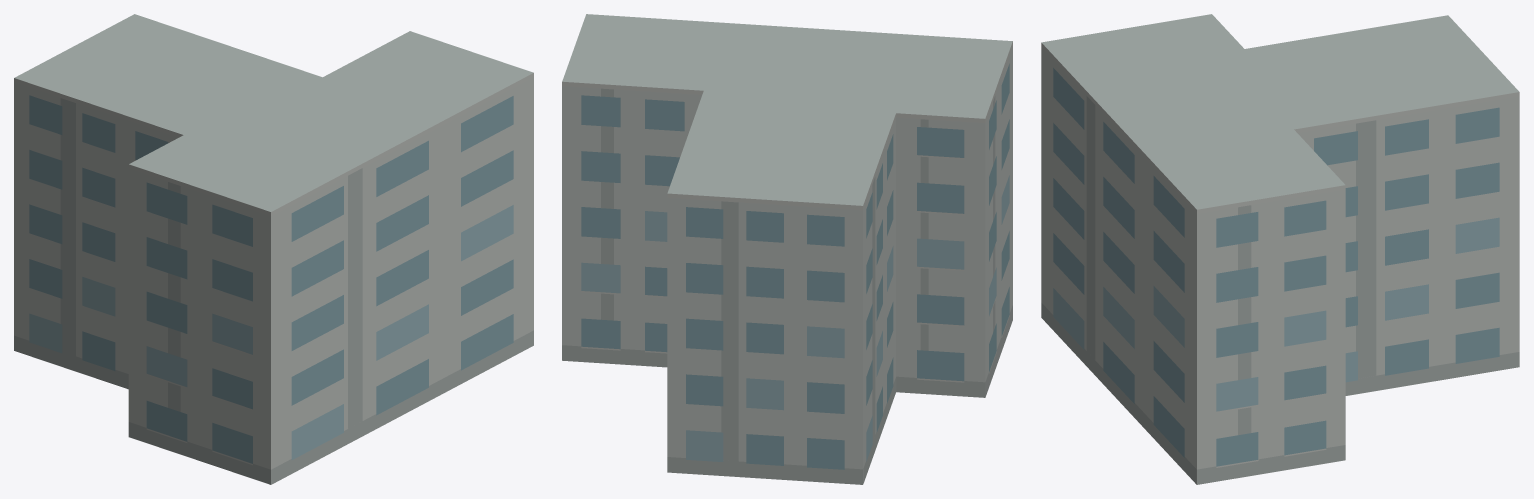
The model's file is residential-751fdbe7-b5f1-43da-81e5-4dea89578230.glb.
The picture shows the model from 3 angles, left to right: view 1: azimuth 30°, elevation 25°; view 2: azimuth 150°, elevation 25°; view 3: azimuth 270°, elevation 25°; orthographic projection. The views are drawn at different scales.
Visible parts, largest first — view 1: residential-751fdbe7-b5f1-43da-81e5-4dea89578230.tmp; view 2: residential-751fdbe7-b5f1-43da-81e5-4dea89578230.tmp; view 3: residential-751fdbe7-b5f1-43da-81e5-4dea89578230.tmp.
Boxes of the visible parts, x1,y1,x2,y2 form: residential-751fdbe7-b5f1-43da-81e5-4dea89578230.tmp: [14, 14, 533, 484]; residential-751fdbe7-b5f1-43da-81e5-4dea89578230.tmp: [562, 14, 1012, 484]; residential-751fdbe7-b5f1-43da-81e5-4dea89578230.tmp: [1041, 14, 1519, 484].
Size of the model in its own units: 23.27 by 15.25 by 24.03.
